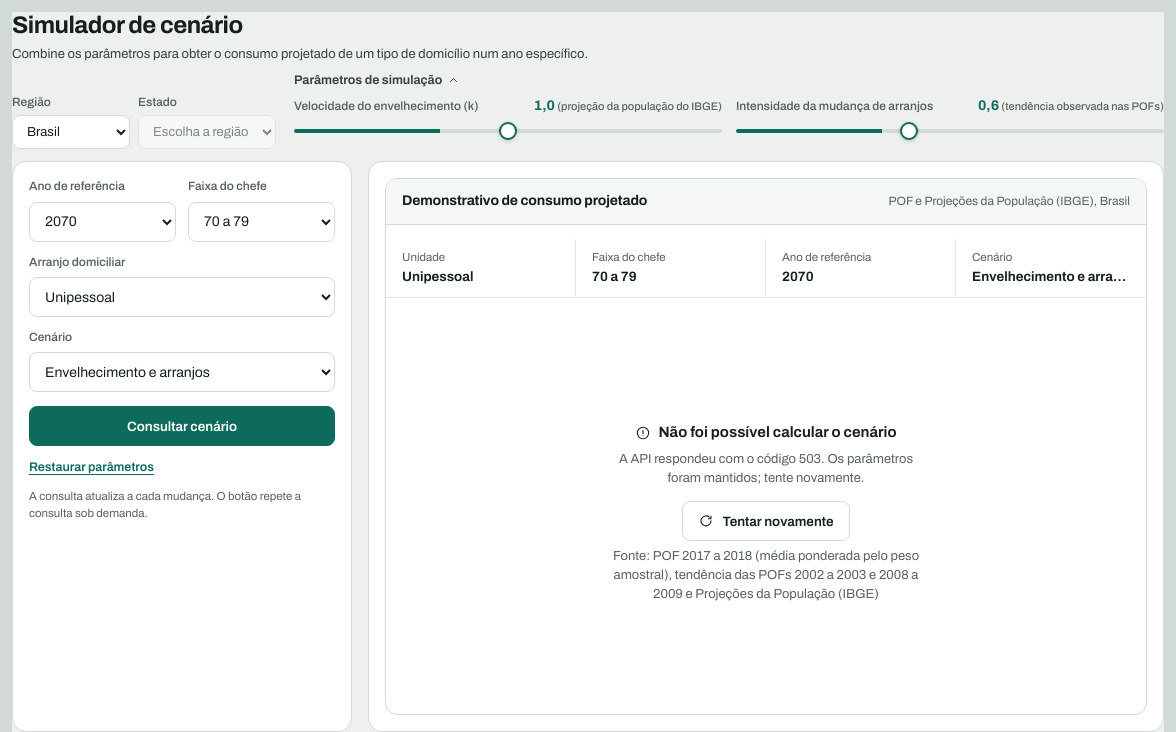
Scenario: Simulador › mostra o erro e tenta de novo
Expected: the message shows "código 503", left=619, top=452, right=821, bottom=466
What coordinates should you click on to do the following:
click the button "Tentar novamente"
I would click on:
 (766, 521)
Its box is left=682, top=501, right=850, bottom=541.
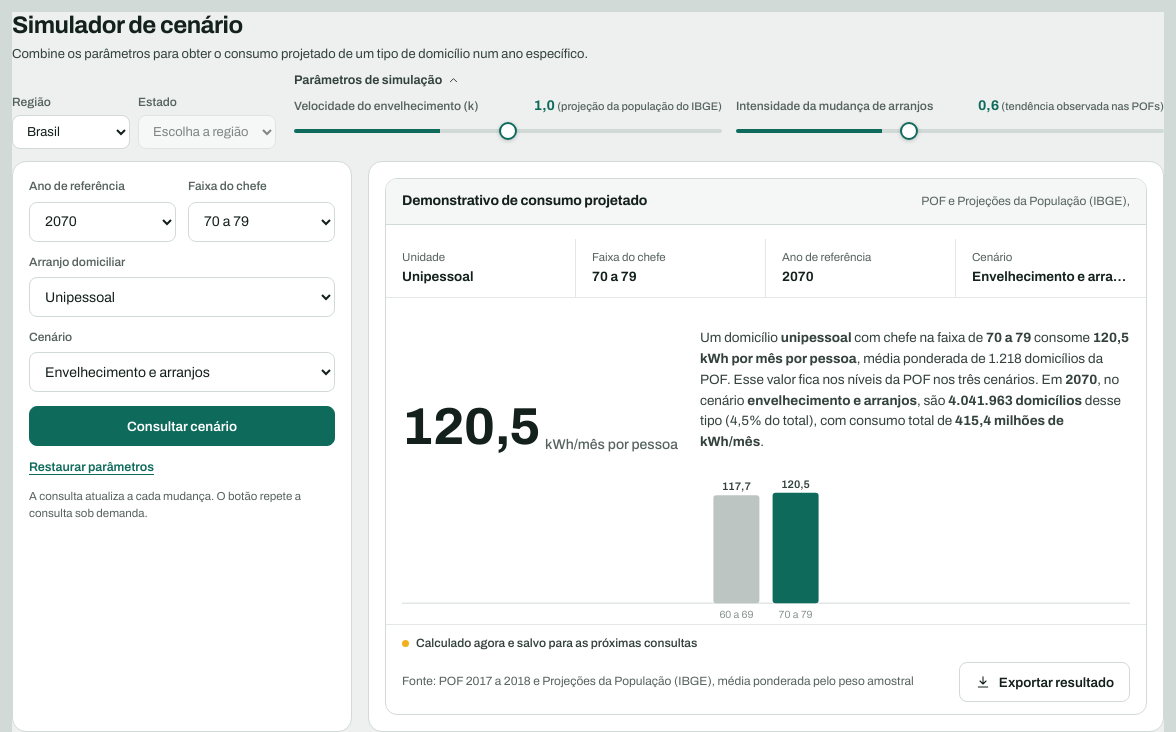
Now the text "120,5 kWh por mês por pessoa" is shown, box left=700, top=330, right=1129, bottom=366
